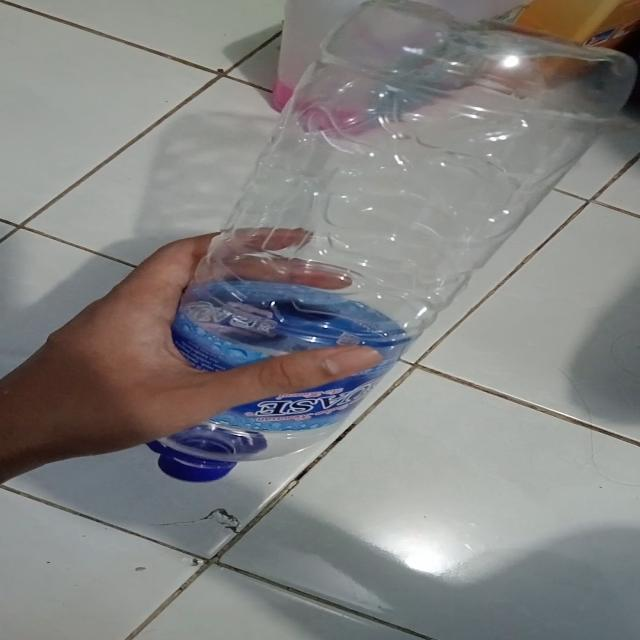Botol bekas: (132, 0, 624, 482)
